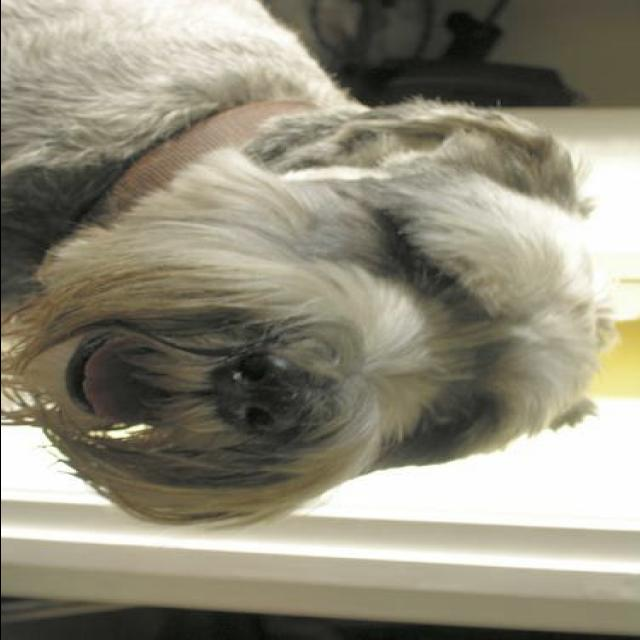standard_schnauzer: (1, 1, 612, 532)
